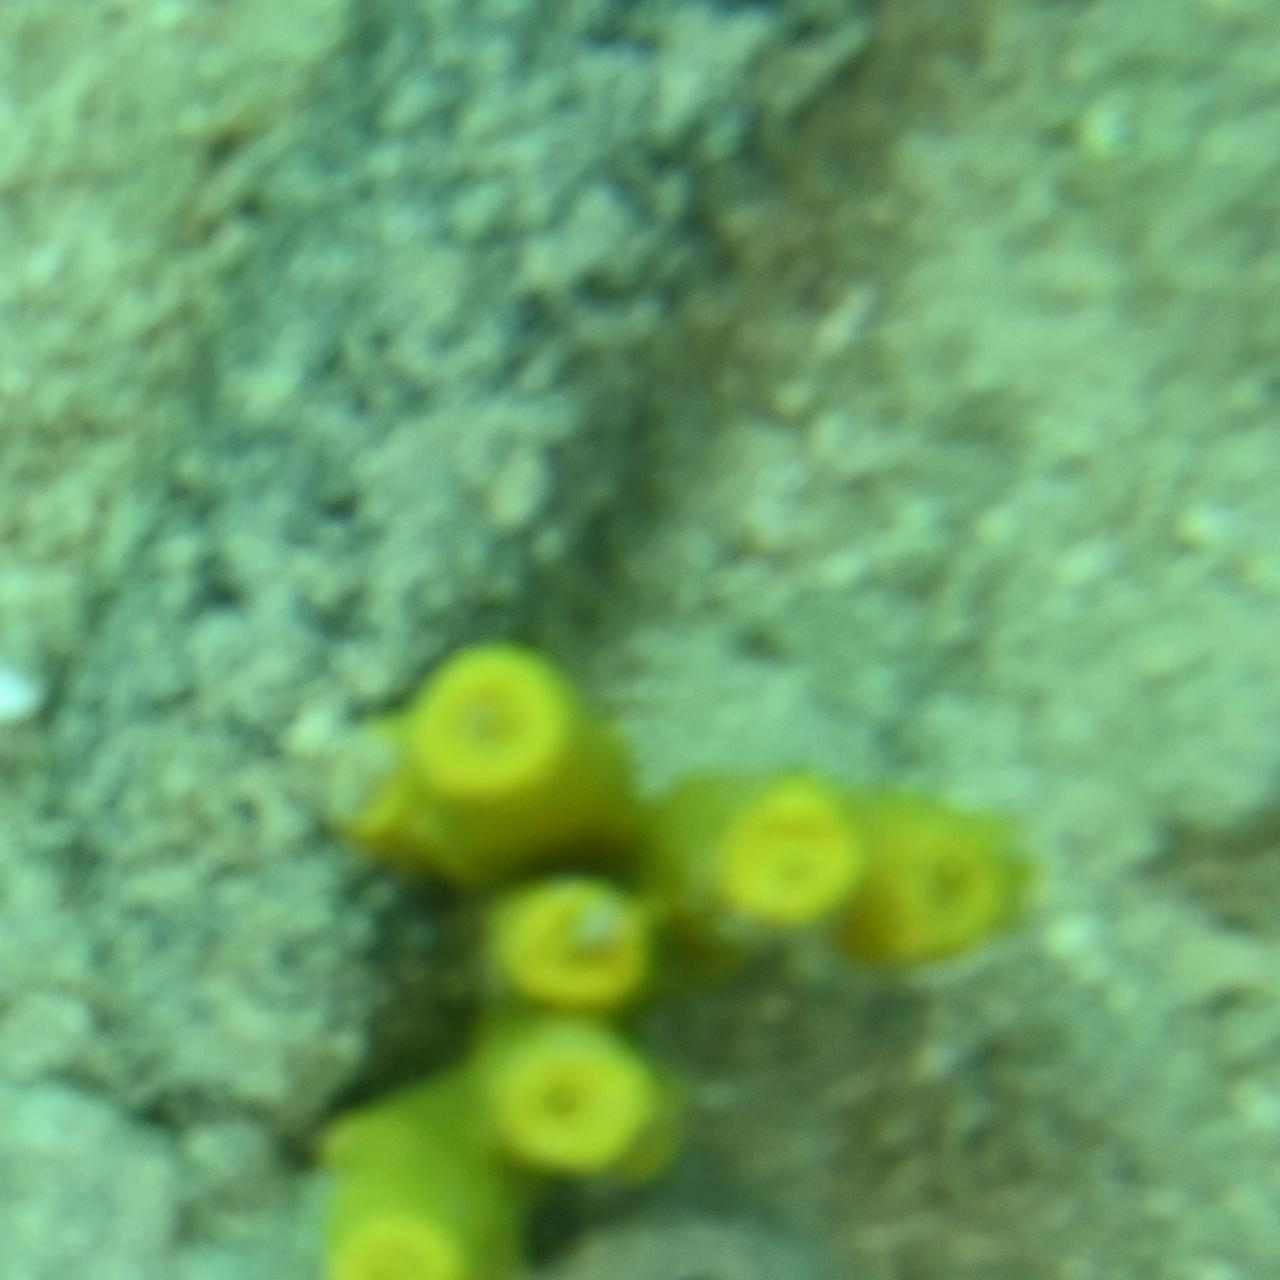Aplysina aerophoba: (256, 651, 1007, 1280)
Holothuria tubulosa: (49, 0, 1250, 908)
